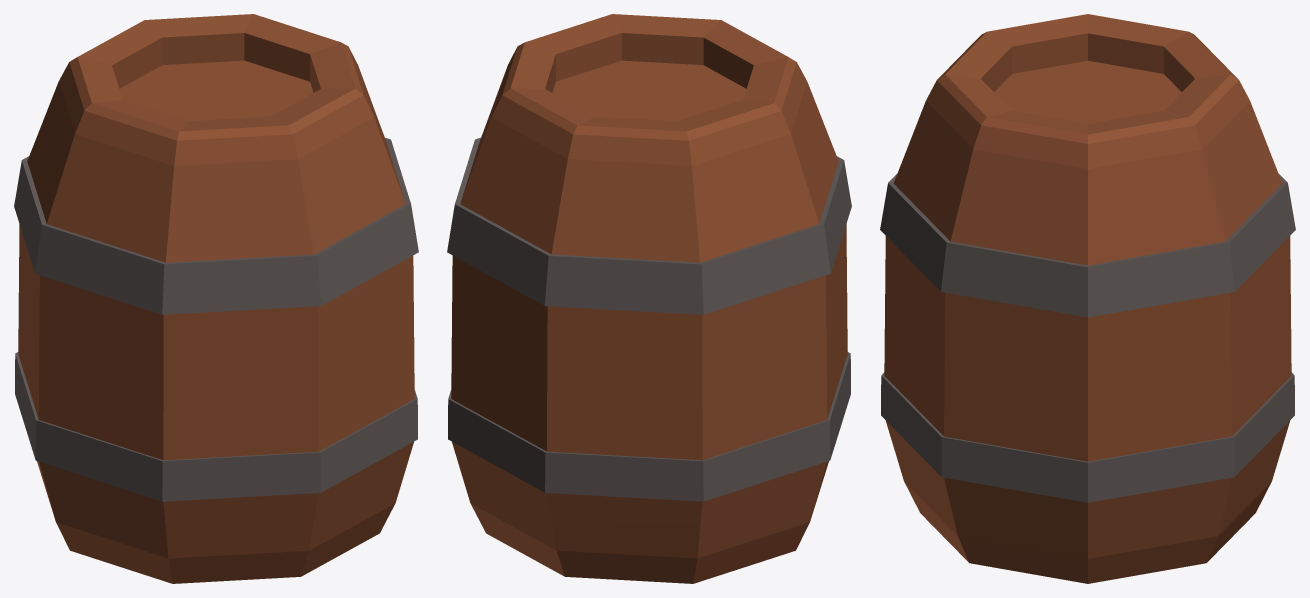
The model's file is Barrel.2.fbx.
3 renders of one model, left to right at view 1: azimuth 30°, elevation 25°; view 2: azimuth 150°, elevation 25°; view 3: azimuth 270°, elevation 25°, orthographic.
Visible parts, largest first — view 1: Barrel.2; view 2: Barrel.2; view 3: Barrel.2.
Part boxes in pixels (<box>): Barrel.2: <box>14,14,418,583</box>; Barrel.2: <box>447,14,851,583</box>; Barrel.2: <box>880,14,1295,583</box>.
Bounding box in the file's own units: 80.92 × 94.2 × 80.92.
